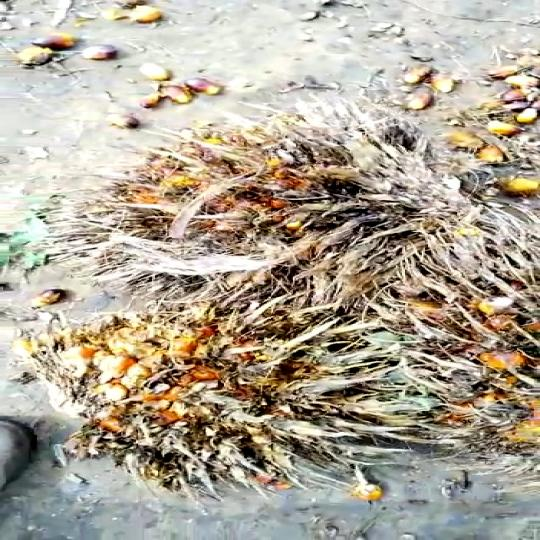terlalu masak: (25, 287, 437, 499), (33, 112, 483, 305)
